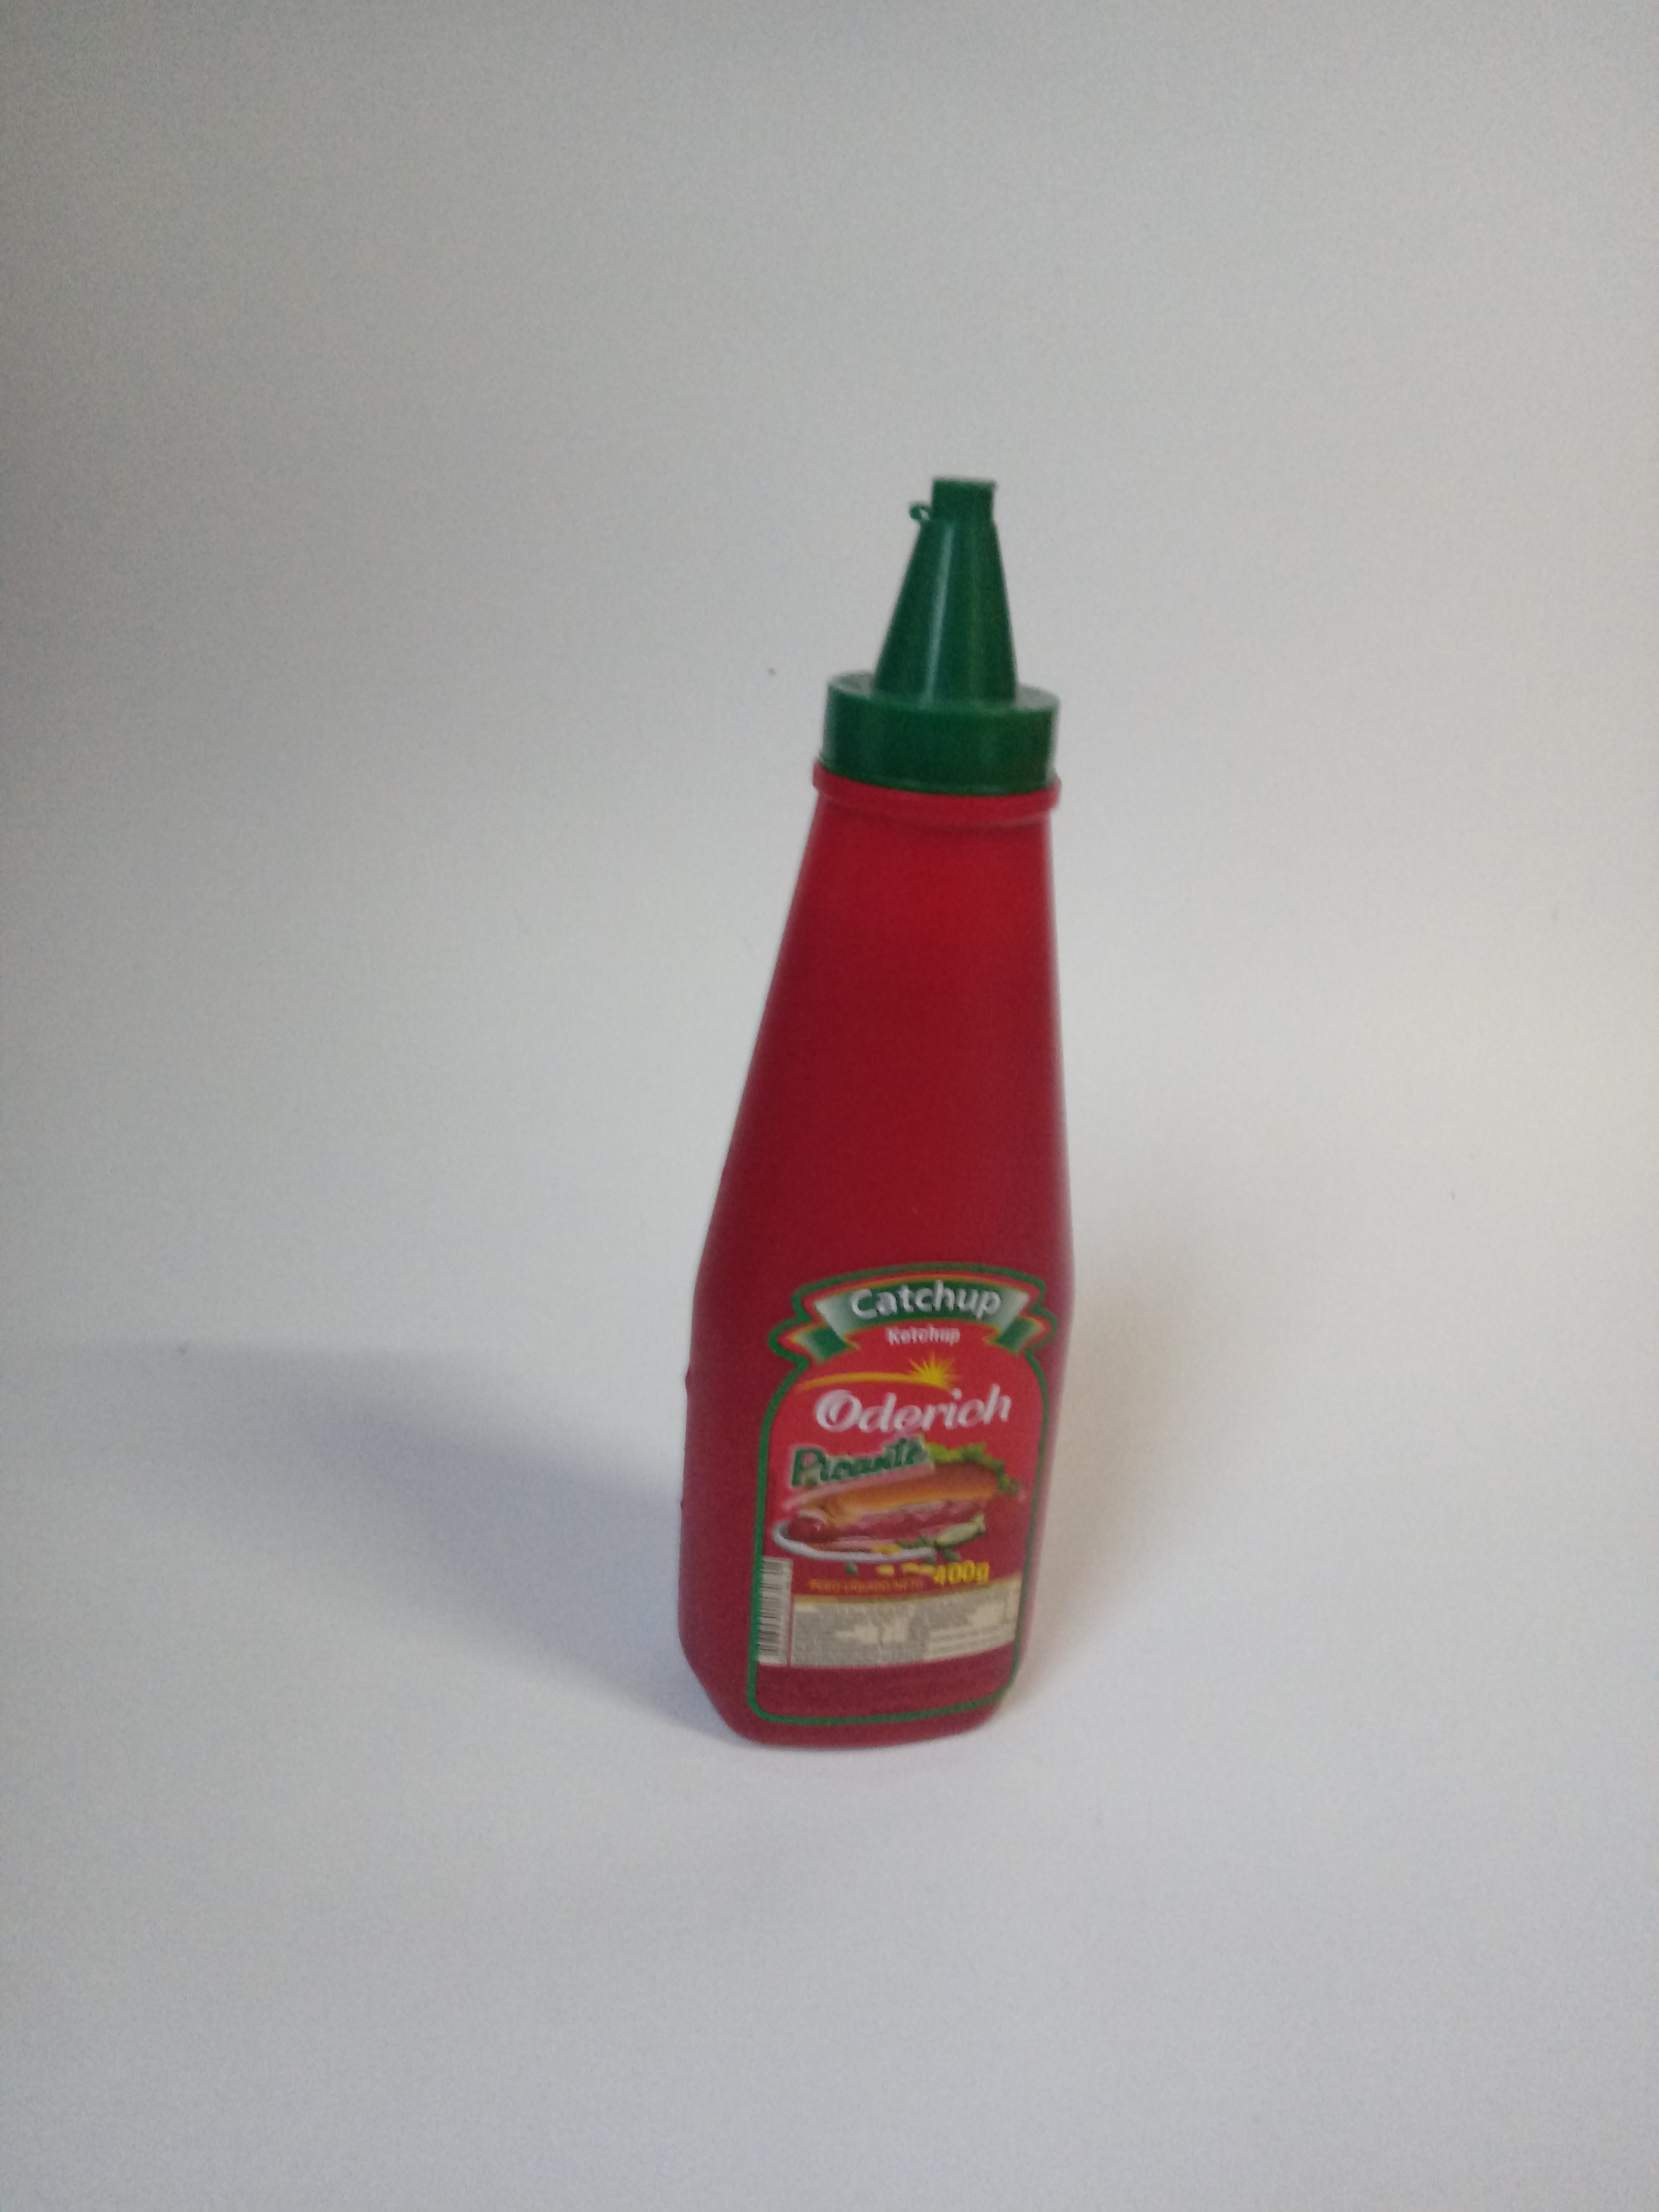catchup-oderich: (657, 458, 1126, 1780)
